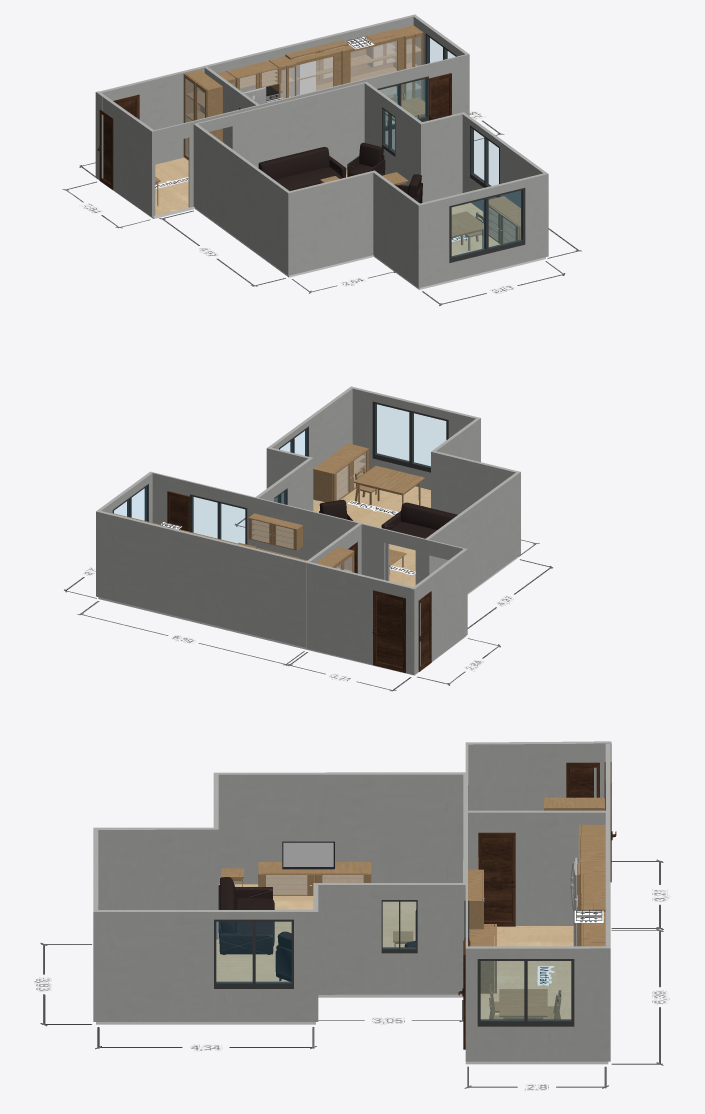
The model's file is ddd.glb.
3 views of the same model, one above another, from view 1: azimuth 30°, elevation 25°; view 2: azimuth 150°, elevation 25°; view 3: azimuth 270°, elevation 25° (orthographic). The views are drawn at different scales.
Visible parts, largest first — view 1: Duvar (×15), storage (×8), wall_022 (×4), Oda (×2), sofa (×2), door_016 (×2), styledPlanOverlay, table, Floor_0; view 2: Duvar (×15), wall_022 (×3), storage (×3), door_016 (×3), Oda (×2), styledPlanOverlay, sofa, table; view 3: Duvar (×9), wall_022 (×3), Oda (×2), storage (×7), door_016 (×2), sofa (×2), styledPlanOverlay, television, table.
Part boxes in pixels (box(x1,y1,x2,y2)): Duvar (×15): box(95, 14, 548, 287); storage (×8): box(183, 25, 520, 244); wall_022 (×4): box(377, 76, 525, 262); Oda (×2): box(99, 157, 545, 289); sofa (×2): box(258, 142, 385, 190); door_016 (×2): box(97, 73, 451, 189); styledPlanOverlay: box(62, 111, 581, 305); table: box(451, 211, 483, 248); Floor_0: box(296, 61, 315, 95); Duvar (×15): box(96, 386, 520, 675); wall_022 (×3): box(112, 401, 448, 544); storage (×3): box(248, 443, 368, 572); door_016 (×3): box(167, 491, 431, 672); Oda (×2): box(98, 485, 518, 649); styledPlanOverlay: box(64, 518, 552, 691); sofa: box(381, 502, 457, 538); table: box(354, 465, 424, 505); Duvar (×9): box(93, 741, 611, 1061); wall_022 (×3): box(214, 900, 574, 1026); Oda (×2): box(96, 884, 608, 1064); storage (×7): box(258, 797, 605, 994); door_016 (×2): box(478, 762, 599, 926); sofa (×2): box(218, 877, 291, 981); styledPlanOverlay: box(34, 859, 670, 1091); television: box(282, 841, 334, 869); table: box(499, 989, 547, 1019).
Size of what is drawn, in the model's own units: 0.6552 by 0.1314 by 0.6835.
22 materials, 13 textured.
